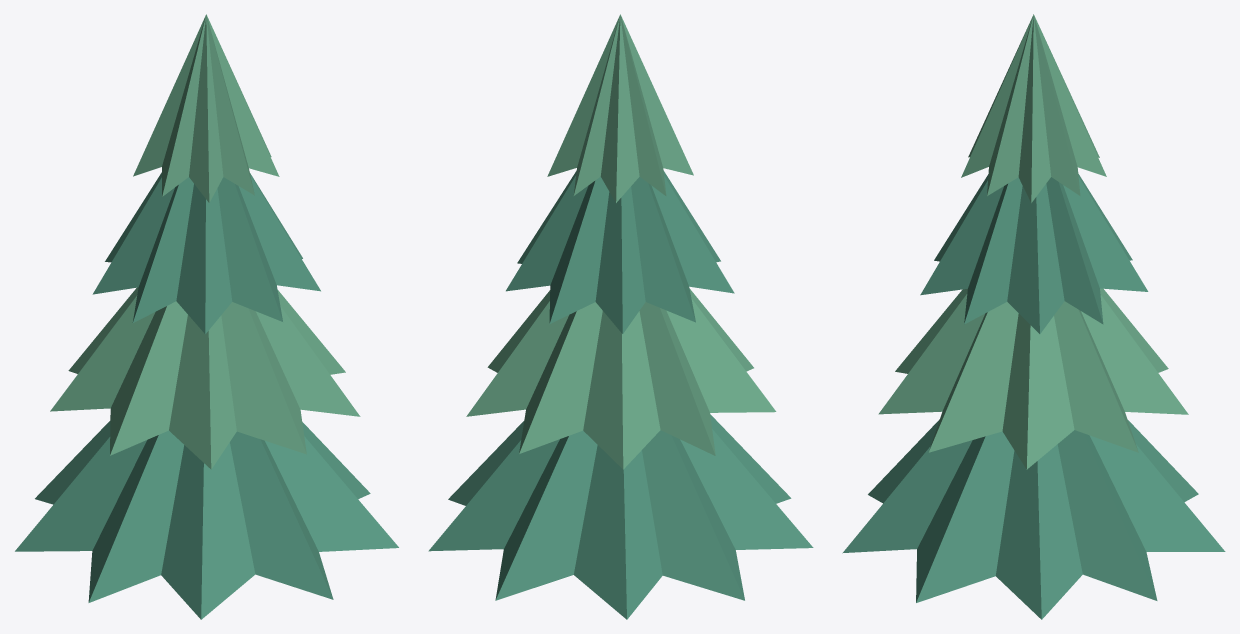
Rendered from tree_fir.fbx.
3 renders of one model, left to right at view 1: azimuth 30°, elevation 25°; view 2: azimuth 150°, elevation 25°; view 3: azimuth 270°, elevation 25°, orthographic.
Parts seen in each view (by area): view 1: Visual; view 2: Visual; view 3: Visual.
Part boxes in pixels (x1,y1,x2,y2): Visual: [15, 14, 398, 619]; Visual: [428, 14, 813, 619]; Visual: [842, 14, 1225, 619].
Size of what is drawn, in the model's own units: 407 by 665 by 413.
